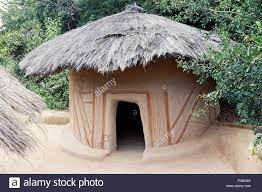Mud House: (23, 7, 235, 158)
